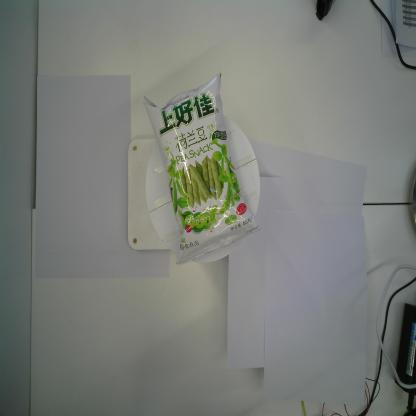Puffed Food: (143, 70, 260, 264)
